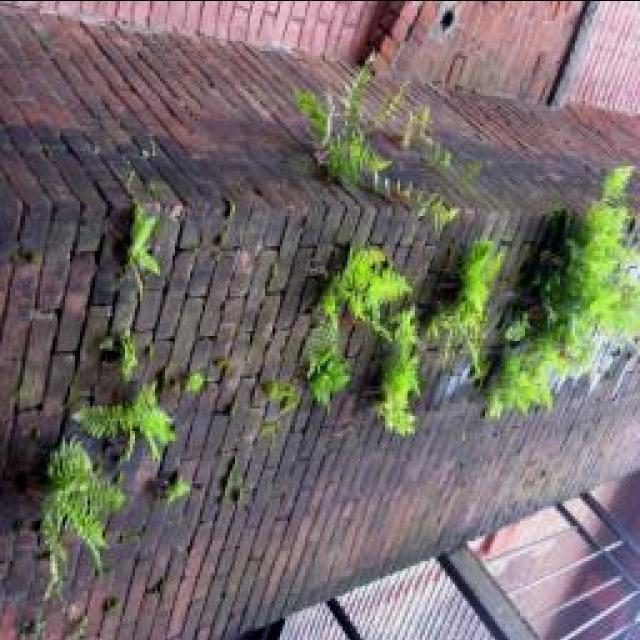vegetation: (27, 50, 638, 604), (63, 204, 196, 451), (34, 394, 182, 604), (295, 60, 470, 224), (541, 164, 640, 435), (117, 161, 184, 229), (43, 440, 101, 499), (123, 204, 165, 284), (293, 85, 333, 147), (251, 379, 302, 427), (41, 529, 72, 606), (599, 164, 636, 203), (220, 198, 237, 234)
